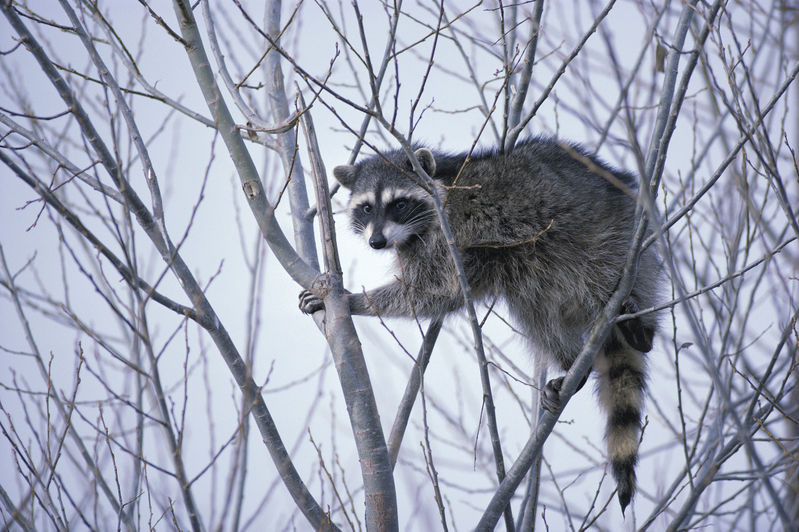raccoon: (303, 133, 690, 510)
